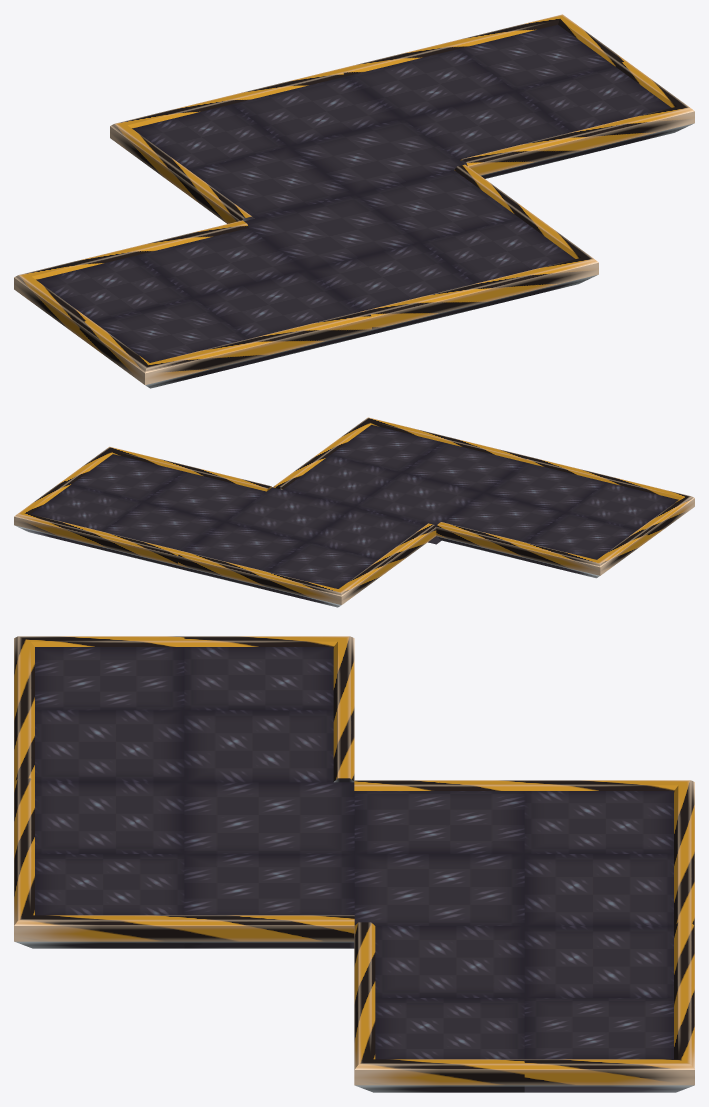
File: ZigZagPlataform.fbx
3 renders of one model, top to bottom at view 1: azimuth 30°, elevation 25°; view 2: azimuth 150°, elevation 25°; view 3: azimuth 270°, elevation 25°, orthographic. The views are drawn at different scales.
Visible parts, largest first — view 1: ZigZagPlataform; view 2: ZigZagPlataform; view 3: ZigZagPlataform.
Part boxes in pixels (x1,y1,x2,y2): ZigZagPlataform: (14,14,694,388); ZigZagPlataform: (14,417,694,607); ZigZagPlataform: (14,636,694,1092).
Size of the model in its own units: 600 by 33.23 by 400.
